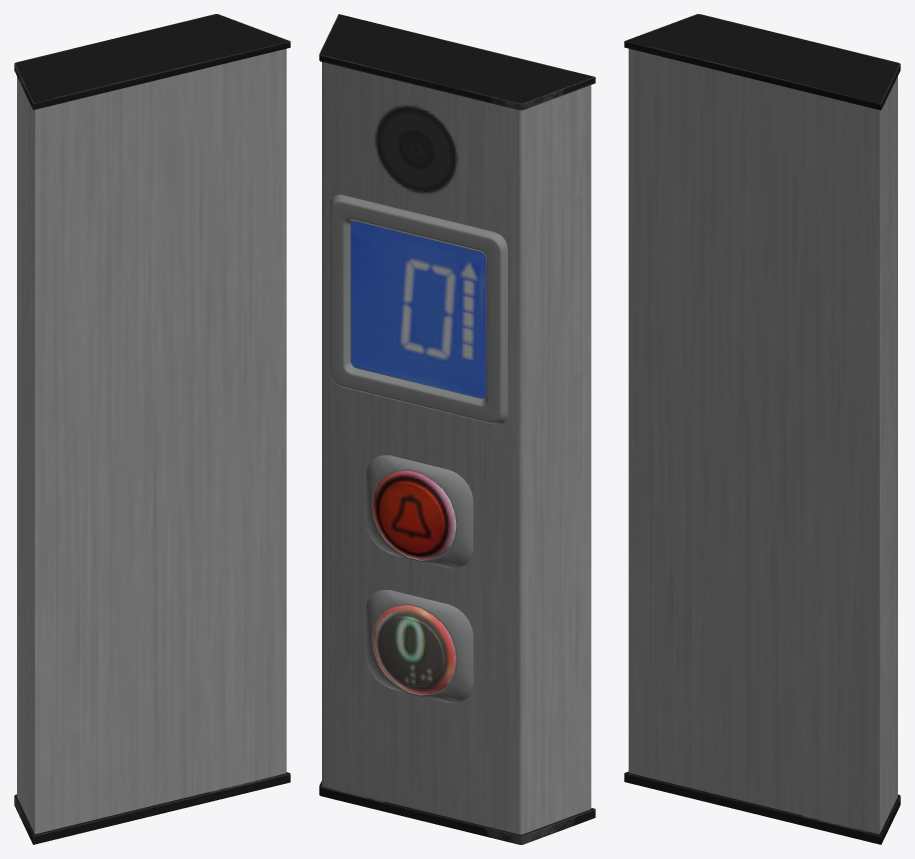
File: ElevPushPanel_fbx.fbx
3 views of the same model, side by side, from view 1: azimuth 30°, elevation 25°; view 2: azimuth 150°, elevation 25°; view 3: azimuth 330°, elevation 25° (orthographic).
Visible parts, largest first — view 1: PushButton; view 2: PushButton; view 3: PushButton.
Part boxes in pixels (x1,y1,x2,y2): PushButton: [14, 14, 290, 844]; PushButton: [319, 14, 595, 844]; PushButton: [624, 14, 900, 844].
Bounding box in the file's own units: 0.2947 × 0.8115 × 0.109.
